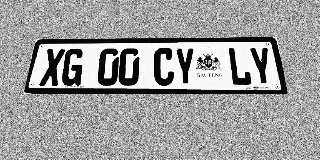0: (96, 48, 120, 86), (118, 48, 140, 86)
C: (153, 48, 174, 86)
G: (60, 49, 85, 86)
L: (227, 47, 253, 86)
X: (39, 49, 65, 86)
Y: (248, 47, 275, 86), (175, 48, 196, 86)
